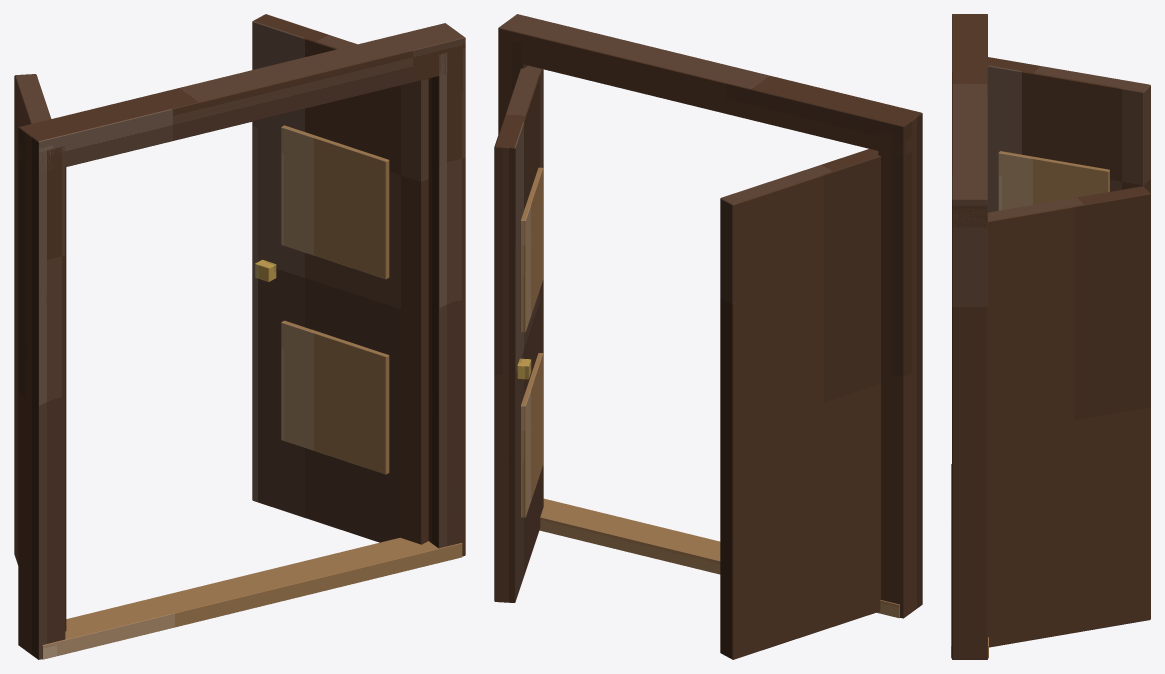
File: normal_double_room_door.glb
3 views of the same model, side by side, from view 1: azimuth 30°, elevation 25°; view 2: azimuth 150°, elevation 25°; view 3: azimuth 270°, elevation 25° (orthographic). The views are drawn at different scales.
Parts seen in each view (by area): view 1: OpenDoorLeafRight, DoorFrameL, DoorFrameTop, DoorFrameR, Threshold, DoorPanelRight_1, DoorPanelRight_2, OpenDoorLeafLeft; view 2: OpenDoorLeafLeft, DoorFrameTop, DoorFrameL, OpenDoorLeafRight, Threshold, DoorPanelRight_2, DoorPanelRight_1, DoorFrameR; view 3: OpenDoorLeafRight, OpenDoorLeafLeft, DoorFrameR, DoorFrameTop, DoorPanelLeft_2.
Boxes of the visible parts, x1=… form: OpenDoorLeafRight: x1=252, y1=14, x2=428, y2=544; DoorFrameL: x1=18, y1=140, x2=65, y2=659; DoorFrameTop: x1=18, y1=23, x2=465, y2=172; DoorFrameR: x1=428, y1=48, x2=465, y2=556; Threshold: x1=42, y1=537, x2=462, y2=659; DoorPanelRight_1: x1=281, y1=320, x2=389, y2=474; DoorPanelRight_2: x1=281, y1=125, x2=389, y2=279; OpenDoorLeafLeft: x1=14, y1=74, x2=66, y2=631; OpenDoorLeafLeft: x1=720, y1=149, x2=880, y2=659; DoorFrameTop: x1=498, y1=14, x2=922, y2=156; DoorFrameL: x1=878, y1=131, x2=922, y2=618; OpenDoorLeafRight: x1=494, y1=65, x2=543, y2=602; Threshold: x1=539, y1=498, x2=899, y2=618; DoorPanelRight_2: x1=520, y1=167, x2=543, y2=332; DoorPanelRight_1: x1=520, y1=353, x2=543, y2=517; DoorFrameR: x1=498, y1=38, x2=527, y2=134; OpenDoorLeafRight: x1=988, y1=186, x2=1150, y2=647; OpenDoorLeafLeft: x1=988, y1=57, x2=1150, y2=212; DoorFrameR: x1=952, y1=199, x2=987, y2=659; DoorFrameTop: x1=952, y1=14, x2=987, y2=227; DoorPanelLeft_2: x1=998, y1=151, x2=1109, y2=210.
Bounding box in the file's own units: 2.2 × 2.55 × 1.
1 material, 1 textured.
